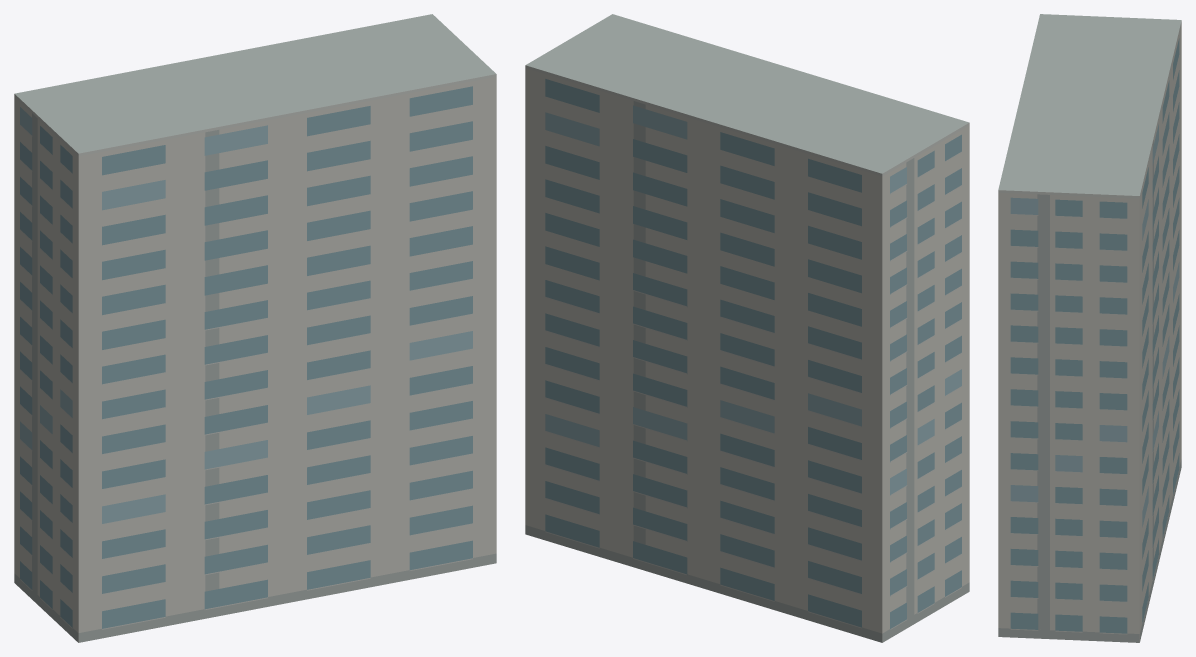
Rendered from residential-3c2c0912-9c48-4ef2-802a-05c0428eb805.glb.
3 views of the same model, side by side, from view 1: azimuth 30°, elevation 25°; view 2: azimuth 150°, elevation 25°; view 3: azimuth 270°, elevation 25° (orthographic). The views are drawn at different scales.
Visible parts, largest first — view 1: residential-3c2c0912-9c48-4ef2-802a-05c0428eb805.tmp; view 2: residential-3c2c0912-9c48-4ef2-802a-05c0428eb805.tmp; view 3: residential-3c2c0912-9c48-4ef2-802a-05c0428eb805.tmp.
Boxes of the visible parts, <box> form: residential-3c2c0912-9c48-4ef2-802a-05c0428eb805.tmp: <box>14,14,496,642</box>; residential-3c2c0912-9c48-4ef2-802a-05c0428eb805.tmp: <box>525,14,969,642</box>; residential-3c2c0912-9c48-4ef2-802a-05c0428eb805.tmp: <box>998,14,1181,642</box>.
Size of the model in its own units: 36.72 by 42 by 15.64.
